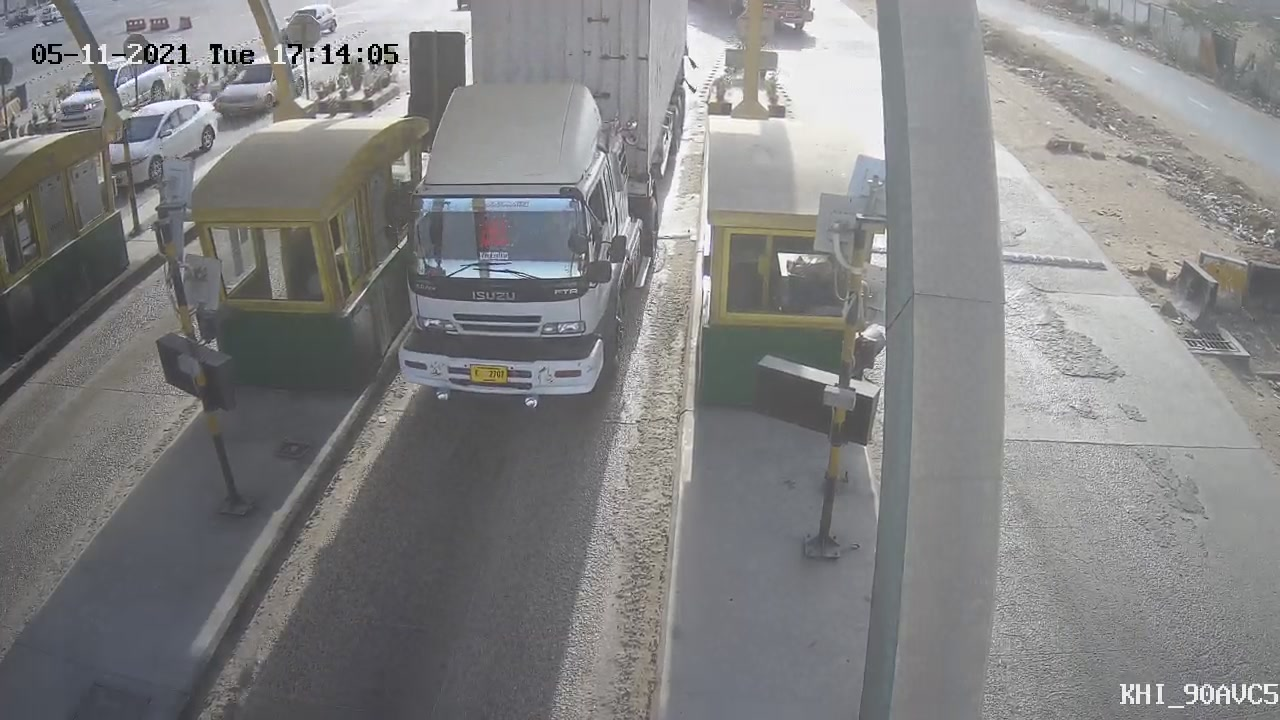F6: (368, 4, 703, 439)
